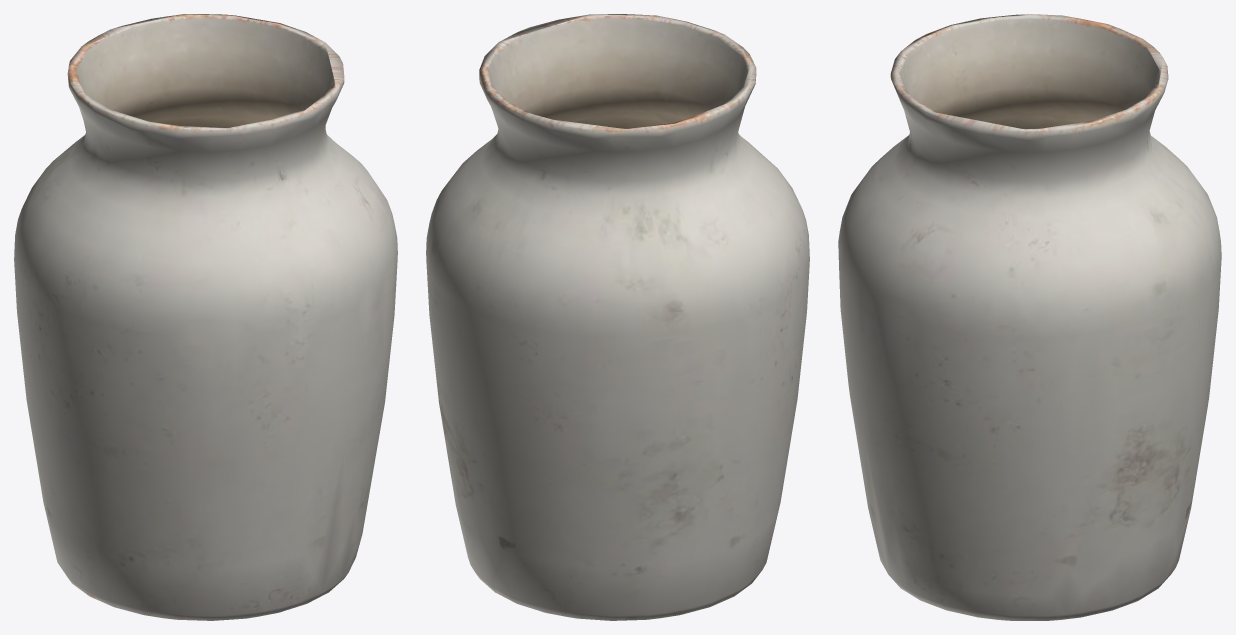
The model's file is ceramic_vase_02.glb.
The picture shows the model from 3 angles, left to right: view 1: azimuth 30°, elevation 25°; view 2: azimuth 150°, elevation 25°; view 3: azimuth 270°, elevation 25°; orthographic projection.
Parts seen in each view (by area): view 1: ceramic_vase_02; view 2: ceramic_vase_02; view 3: ceramic_vase_02.
Boxes of the visible parts, x1,y1,x2,y2 form: ceramic_vase_02: (14, 14, 397, 620); ceramic_vase_02: (426, 14, 809, 620); ceramic_vase_02: (838, 14, 1221, 620).
Bounding box in the file's own units: 0.2184 × 0.309 × 0.218.
1 material, 1 textured.
